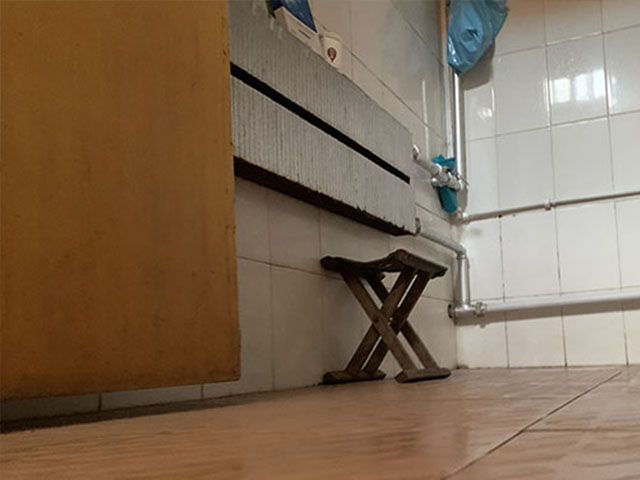stool: (317, 245, 454, 385)
